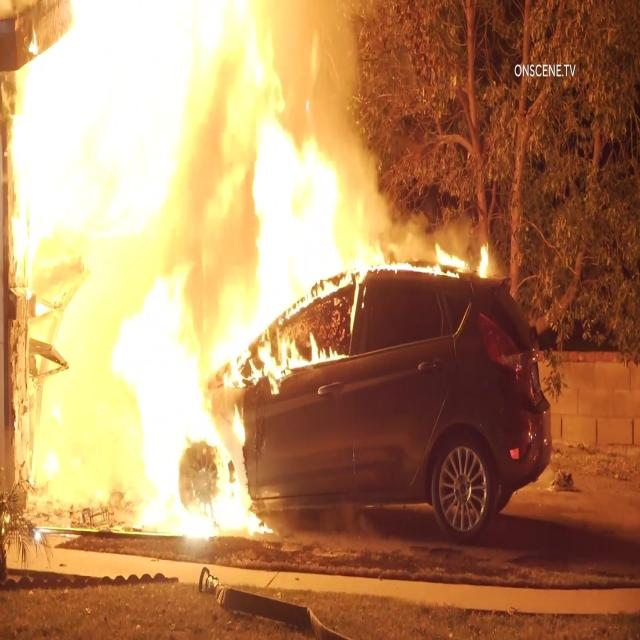fire: (40, 0, 170, 502), (162, 0, 364, 255), (168, 248, 261, 543), (266, 267, 351, 382), (372, 220, 496, 290)
